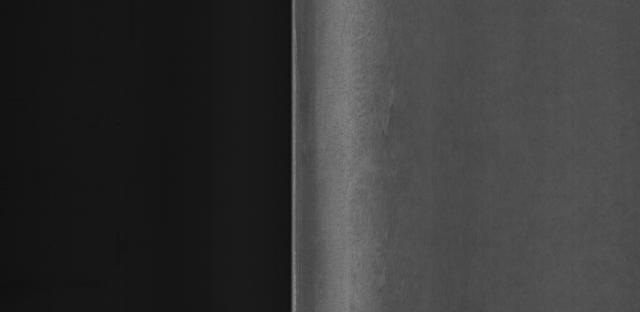silk_spot: (343, 30, 422, 304)
